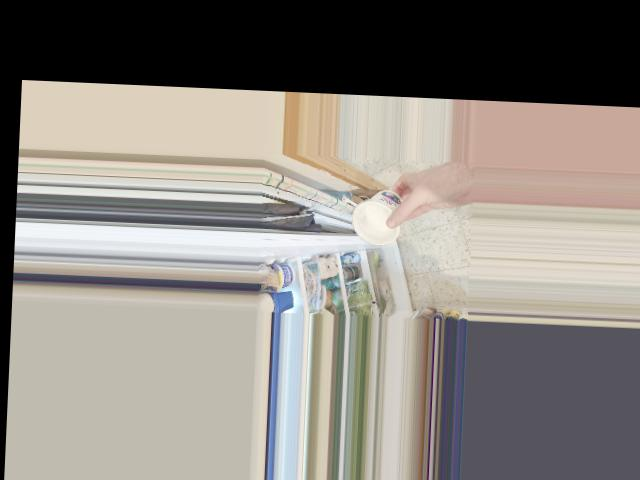cotage: (348, 184, 407, 245)
